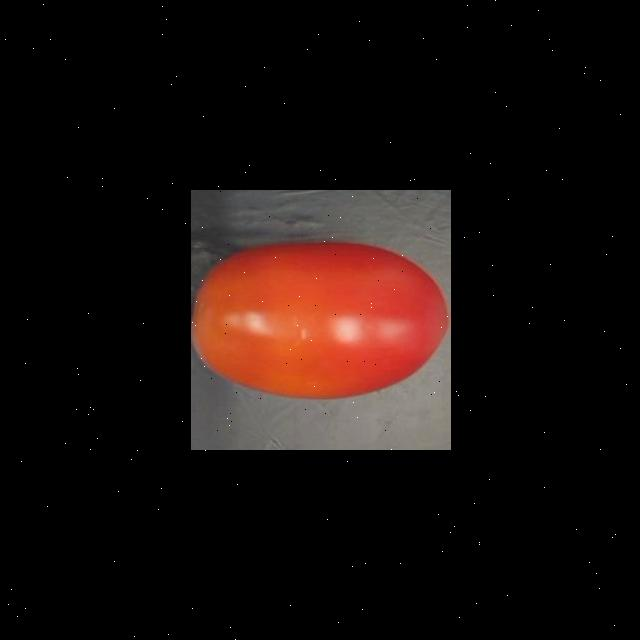tomato: (190, 235, 450, 407)
